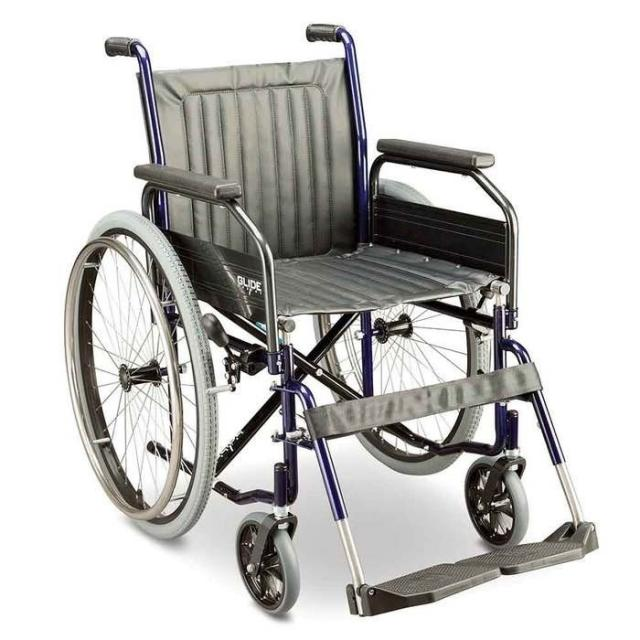wheelchair: (46, 20, 612, 624)
